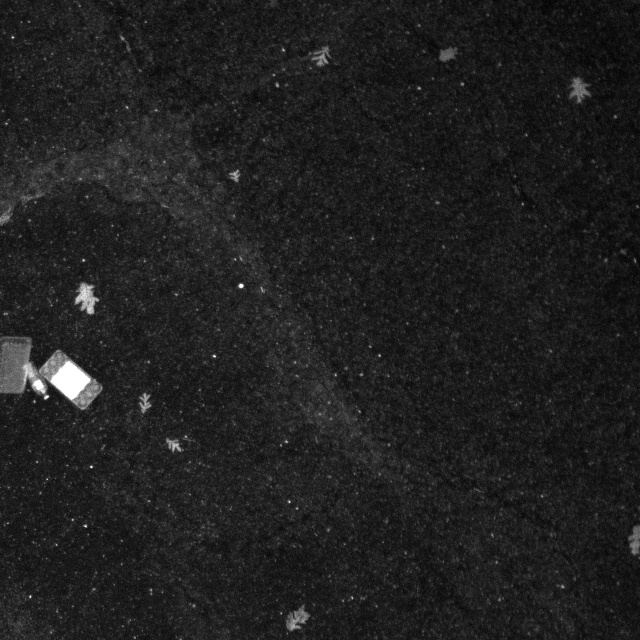bottle: (17, 357, 60, 408)
container: (34, 341, 110, 410)
